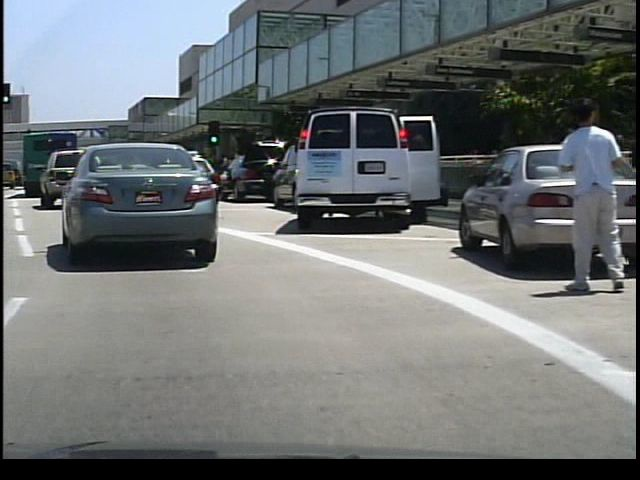person: (550, 92, 619, 295)
